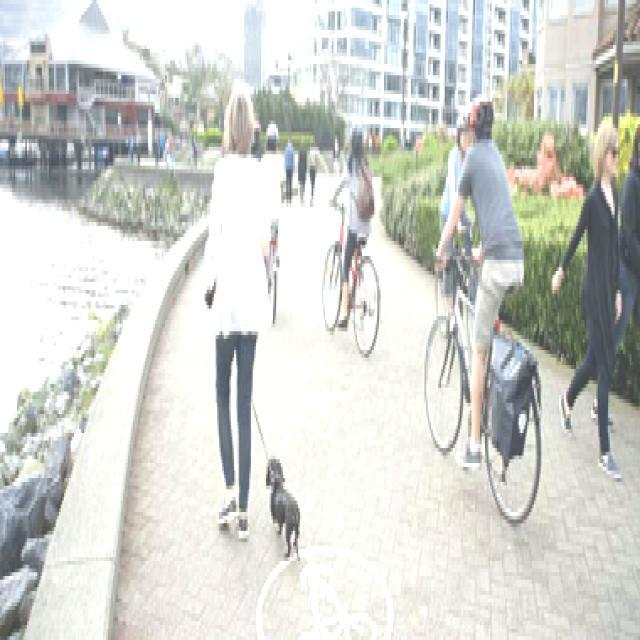Helmet: (468, 82, 497, 150), (350, 116, 367, 158)
